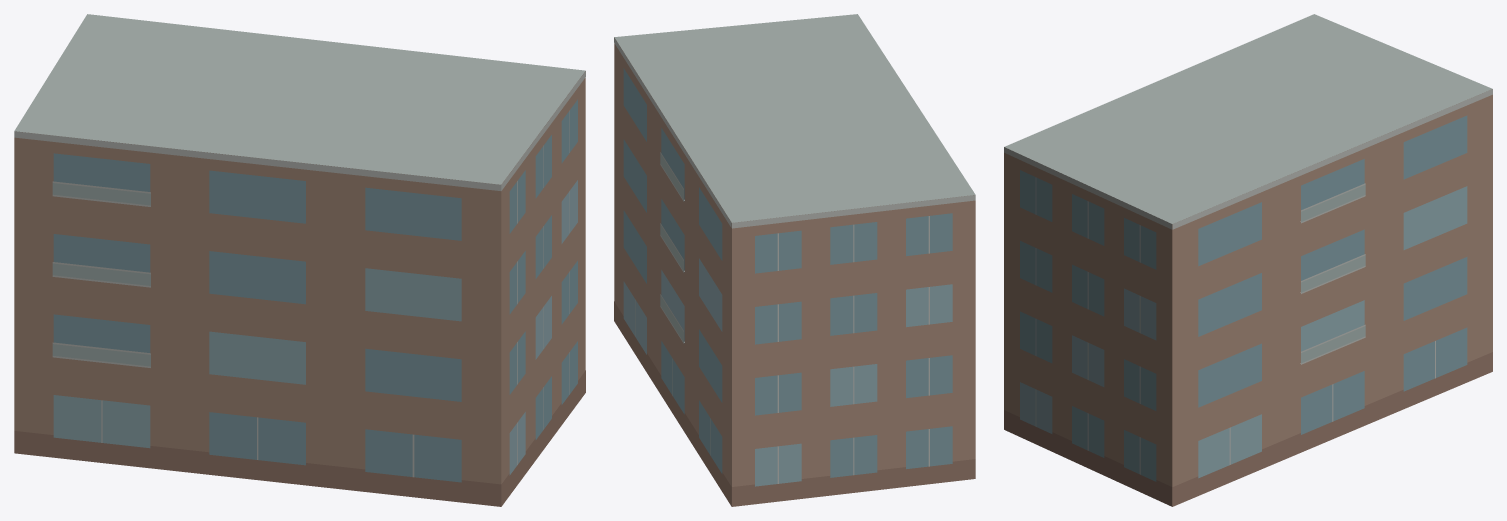
The model's file is survey-upis-32495683.glb.
3 renders of one model, left to right at view 1: azimuth 30°, elevation 25°; view 2: azimuth 150°, elevation 25°; view 3: azimuth 270°, elevation 25°, orthographic. The views are drawn at different scales.
Visible parts, largest first — view 1: survey-upis-32495683.tmp; view 2: survey-upis-32495683.tmp; view 3: survey-upis-32495683.tmp.
Boxes of the visible parts, x1,y1,x2,y2 form: survey-upis-32495683.tmp: [14, 14, 585, 506]; survey-upis-32495683.tmp: [614, 14, 975, 506]; survey-upis-32495683.tmp: [1004, 14, 1492, 506].
Size of the model in its own units: 19.46 by 12.2 by 19.12.
